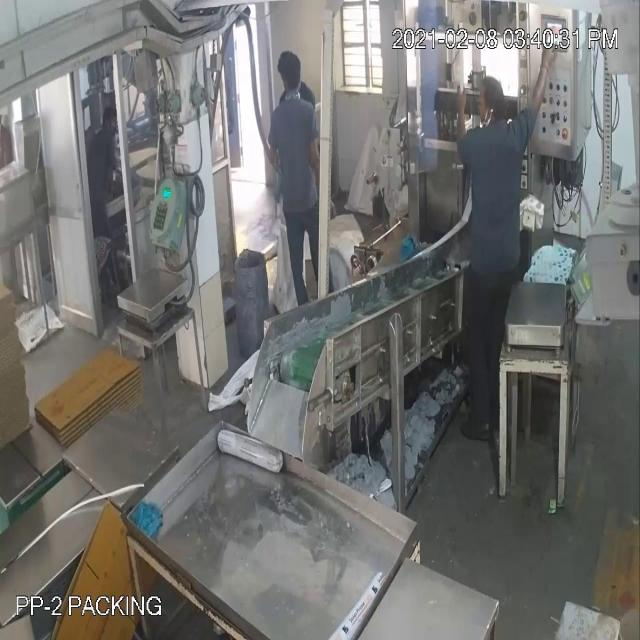No_Gloves: (25, 74, 548, 122)
